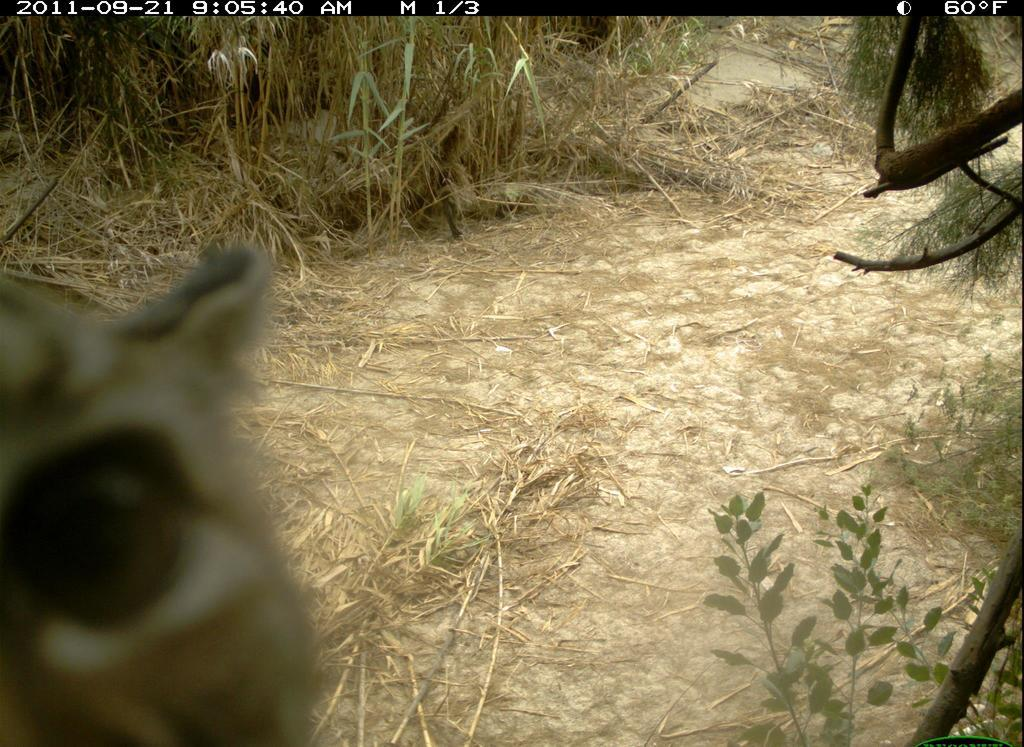bobcat: (2, 237, 329, 747)
